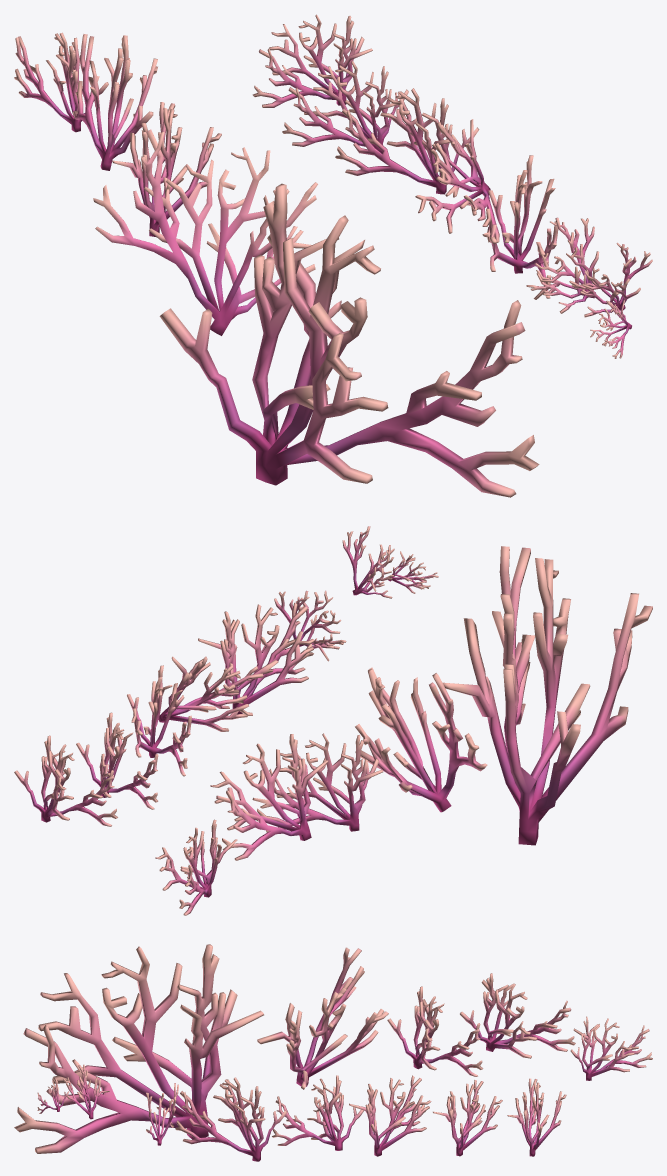
Rendered from stageObject_12.fbx.
3 renders of one model, top to bottom at view 1: azimuth 30°, elevation 25°; view 2: azimuth 150°, elevation 25°; view 3: azimuth 270°, elevation 25°, orthographic. The views are drawn at different scales.
Visible parts, largest first — view 1: sango7_1; view 2: sango7_1; view 3: sango7_1.
Part boxes in pixels (x1,y1,x2,y2): sango7_1: (14,14,652,497); sango7_1: (14,526,652,915); sango7_1: (14,944,652,1161).
Size of the model in its own units: 320 by 206 by 599.
Materials: 1 (1 with a texture image).
